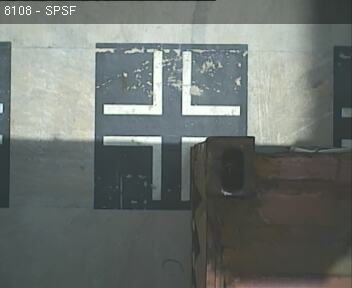groundmarker_1: (103, 51, 239, 115), (103, 136, 204, 200)
